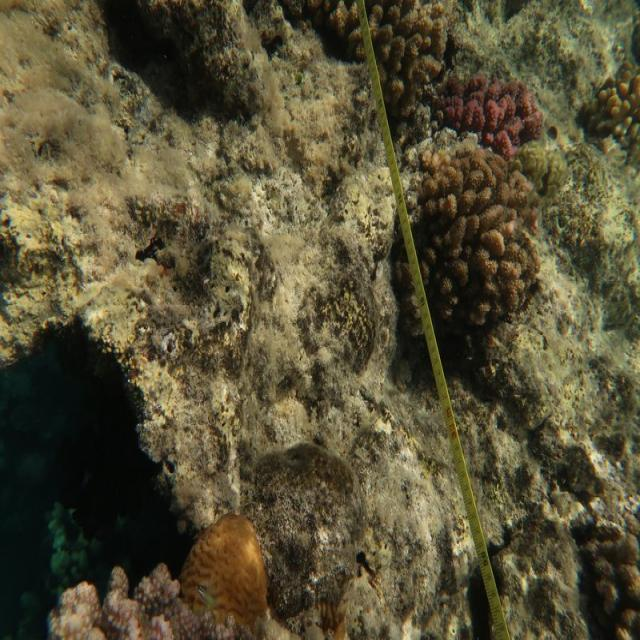Healthy Coral: (406, 150, 547, 365), (176, 512, 274, 635), (438, 61, 540, 155)
